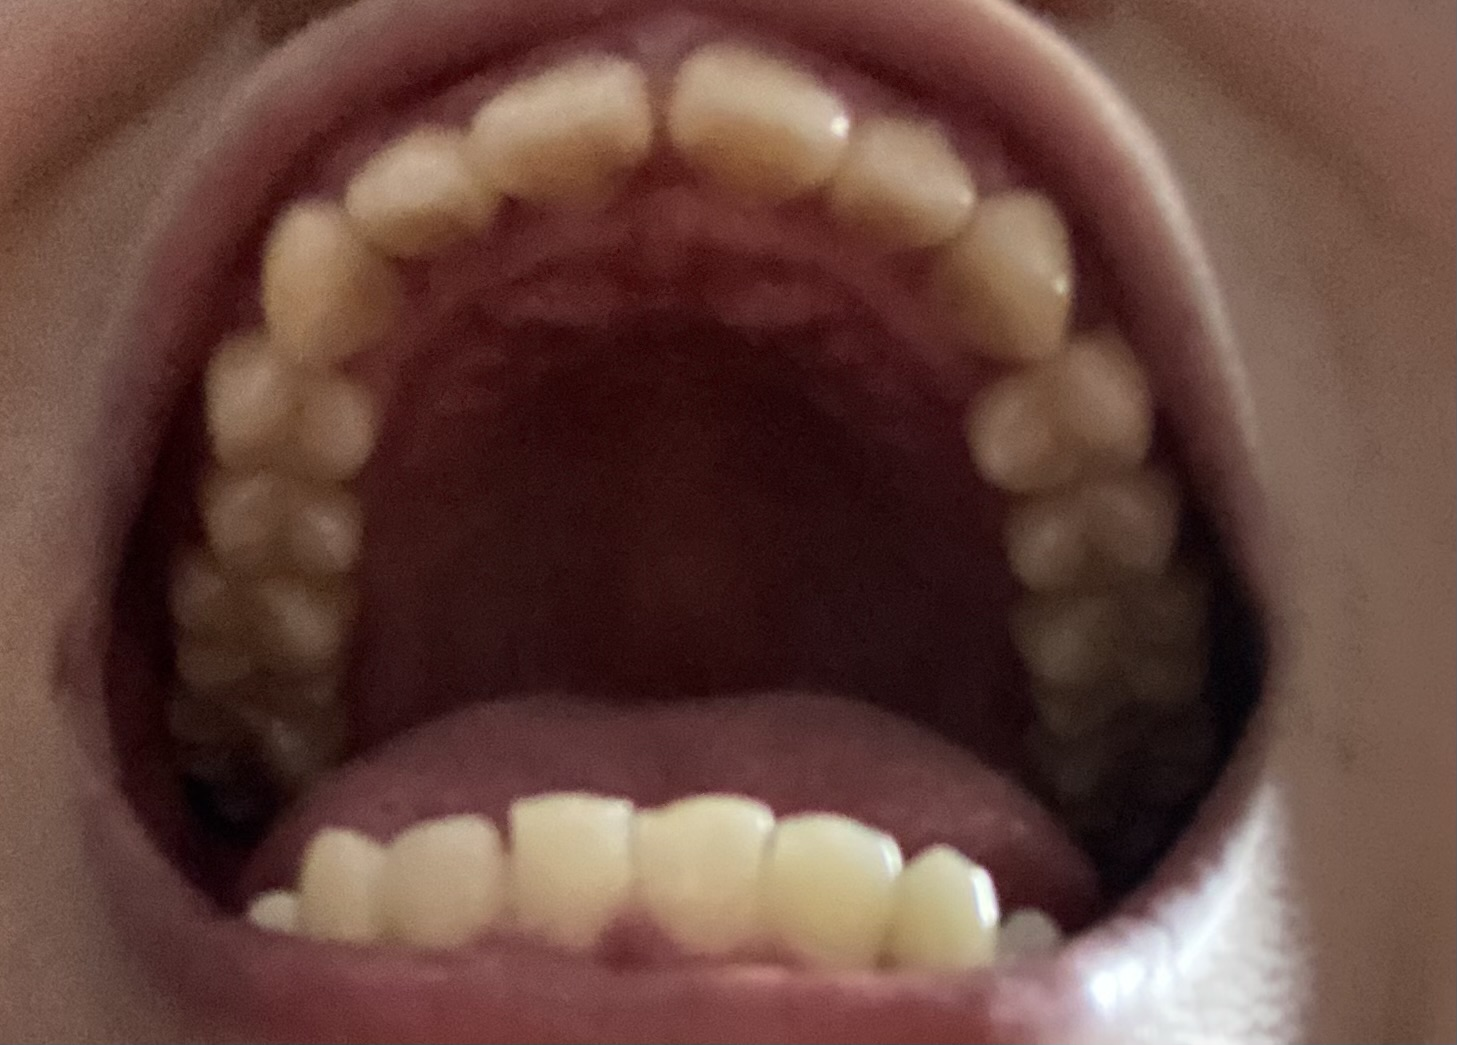teeth: (674, 40, 844, 204), (926, 190, 1075, 366), (474, 54, 635, 208), (265, 206, 408, 363), (972, 338, 1124, 478), (218, 340, 367, 484), (771, 815, 899, 959), (1005, 480, 1163, 591), (836, 119, 966, 252), (354, 133, 495, 256), (649, 813, 769, 948), (507, 804, 618, 949), (206, 480, 351, 572), (389, 822, 489, 935), (893, 855, 985, 960), (301, 826, 383, 943)
